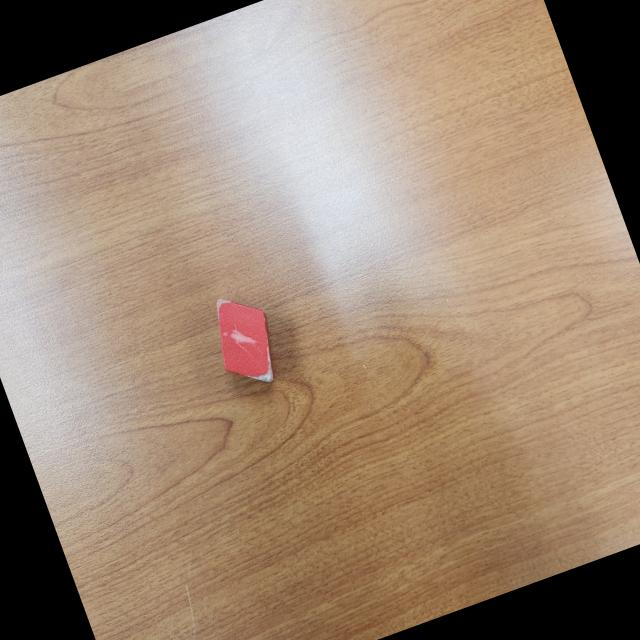broken: (201, 284, 289, 396)
